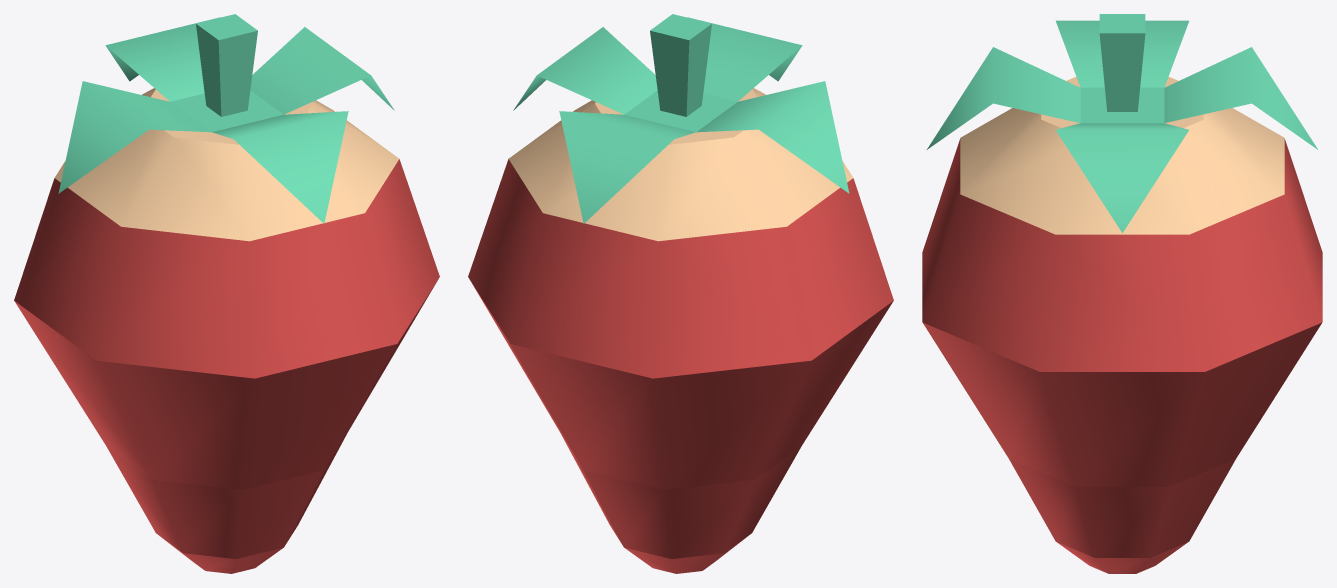
The model's file is strawberry.GLB.
The picture shows the model from 3 angles, left to right: view 1: azimuth 30°, elevation 25°; view 2: azimuth 150°, elevation 25°; view 3: azimuth 270°, elevation 25°; orthographic projection.
Parts seen in each view (by area): view 1: strawberry; view 2: strawberry; view 3: strawberry.
Boxes of the visible parts, x1,y1,x2,y2 form: strawberry: [14, 14, 439, 573]; strawberry: [468, 14, 893, 573]; strawberry: [922, 14, 1322, 573].
Size of the model in its own units: 0.1197 by 0.177 by 0.1197.
